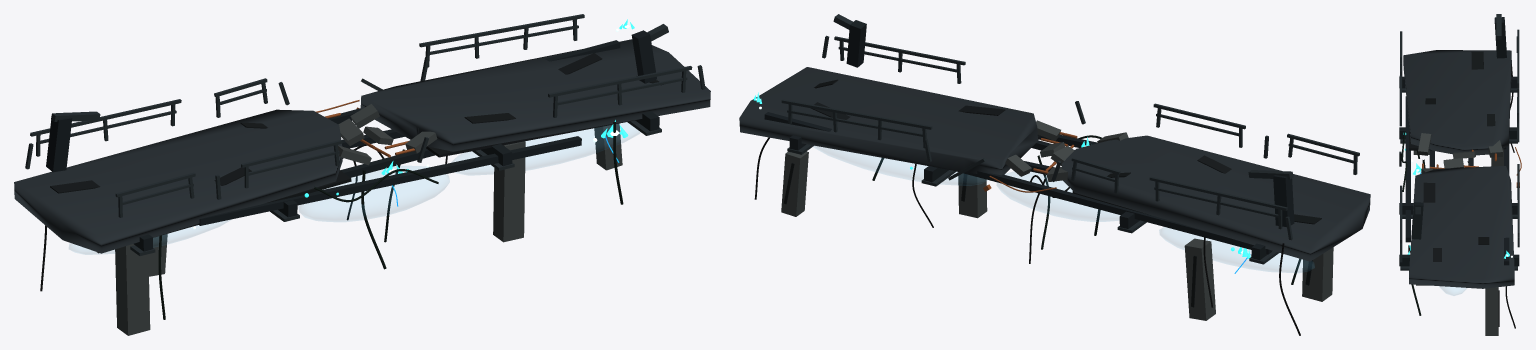
Rendered from broken-overpass.glb.
3 views of the same model, side by side, from view 1: azimuth 30°, elevation 25°; view 2: azimuth 150°, elevation 25°; view 3: azimuth 270°, elevation 25° (orthographic). The views are drawn at different scales.
Parts seen in each view (by area): view 1: LeftThickCorrodedDeck, RightThickCorrodedDeck, CrossBeamFragment4, MistPocketCentralBreak, LeftRearColumn, RightCenterColumn, MistPocketRightSpan, LeftUprightStub, FarRightSplitColumn, RightLeaningStub, CrossBeamFragment3, FrontRightRailTopBar (+7 smaller); view 2: LeftThickCorrodedDeck, RightThickCorrodedDeck, CrossBeamFragment1, LeftFrontBrokenColumn, MistPocketCentralBreak, MistPocketUnderLeftSpan, MistPocketRightSpan, FarRightSplitColumn, LeftRearColumn, RightCenterColumn, LeftUprightStub, RightLeaningStub (+4 smaller); view 3: RightThickCorrodedDeck, LeftThickCorrodedDeck, CrossBeamFragment4, FarRightSplitColumn, LeftUprightStub, RightLeaningStub, CrossBeamFragment1, RightTopWetPatchA, LeftBrokenToothC, LeftTopWetPatchA, LongitudinalGirder4, FrontRightRailTopBar (+15 smaller).
Part boxes in pixels (<box>): LeftThickCorrodedDeck: <box>14,109,342,253</box>; RightThickCorrodedDeck: <box>360,39,710,151</box>; CrossBeamFragment4: <box>198,136,581,225</box>; MistPocketCentralBreak: <box>299,166,449,221</box>; LeftRearColumn: <box>115,244,150,335</box>; RightCenterColumn: <box>493,141,525,242</box>; MistPocketRightSpan: <box>452,122,640,174</box>; LeftUprightStub: <box>46,112,72,172</box>; FarRightSplitColumn: <box>594,123,622,170</box>; RightLeaningStub: <box>631,30,656,83</box>; CrossBeamFragment3: <box>340,148,435,177</box>; FrontRightRailTopBar: <box>419,14,584,47</box>; LeftThickCorrodedDeck: <box>1061,135,1370,261</box>; RightThickCorrodedDeck: <box>739,67,1037,175</box>; CrossBeamFragment1: <box>764,112,1271,254</box>; LeftFrontBrokenColumn: <box>1184,238,1215,320</box>; MistPocketCentralBreak: <box>997,172,1119,221</box>; MistPocketUnderLeftSpan: <box>1159,227,1314,272</box>; MistPocketRightSpan: <box>814,146,987,185</box>; FarRightSplitColumn: <box>781,151,808,216</box>; LeftRearColumn: <box>1302,247,1333,301</box>; RightCenterColumn: <box>958,173,987,218</box>; LeftUprightStub: <box>1273,175,1294,227</box>; RightLeaningStub: <box>846,20,866,67</box>; RightThickCorrodedDeck: <box>1409,166,1514,288</box>; LeftThickCorrodedDeck: <box>1403,50,1511,155</box>; CrossBeamFragment4: <box>1405,96,1410,242</box>; FarRightSplitColumn: <box>1485,287,1498,335</box>; LeftUprightStub: <box>1494,17,1506,58</box>; RightLeaningStub: <box>1411,202,1423,239</box>; CrossBeamFragment1: <box>1504,137,1509,265</box>; RightTopWetPatchA: <box>1423,182,1435,202</box>; LeftBrokenToothC: <box>1418,133,1431,155</box>; LeftTopWetPatchA: <box>1471,51,1483,69</box>; LongitudinalGirder4: <box>1399,254,1519,266</box>; FrontRightRailTopBar: <box>1517,169,1519,234</box>.
Bounding box in the file's own units: 17.92 × 4.86 × 4.19.
